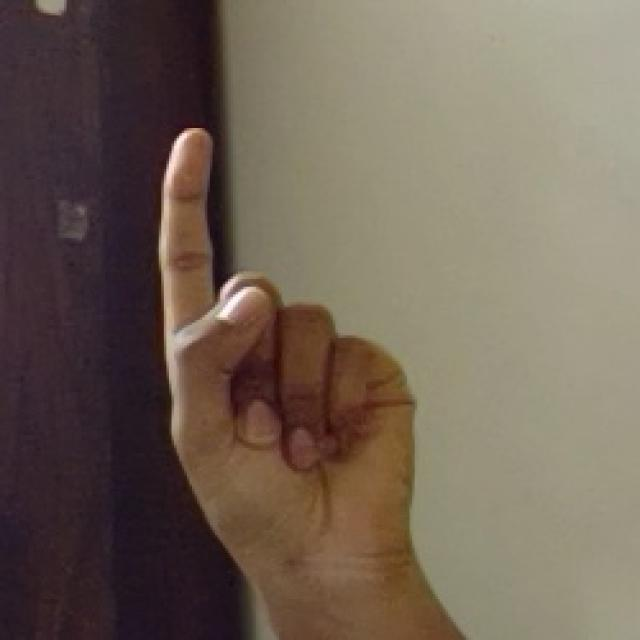Numeric-1: (155, 130, 418, 596)
